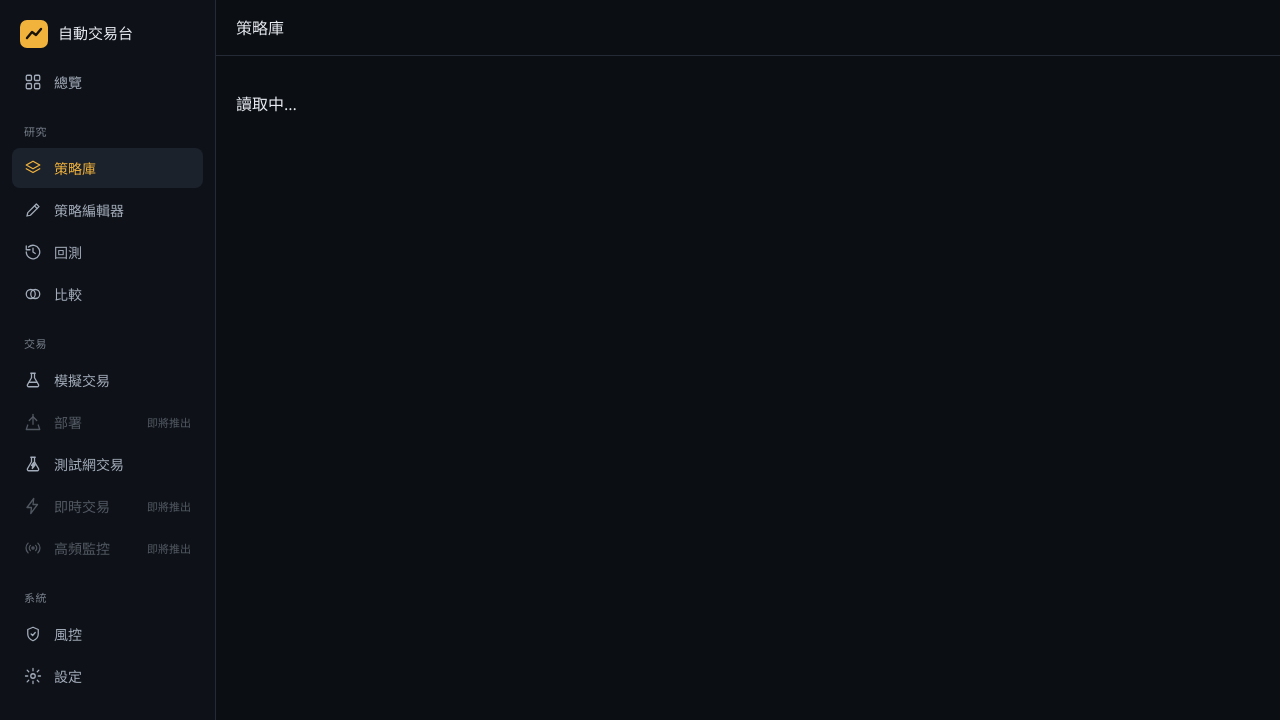
Test: App › 點擊「比較」「模擬交易」與「設定」都能各自顯示對應內容
Click the button "比較" at (108, 294), box [12,274,203,314]
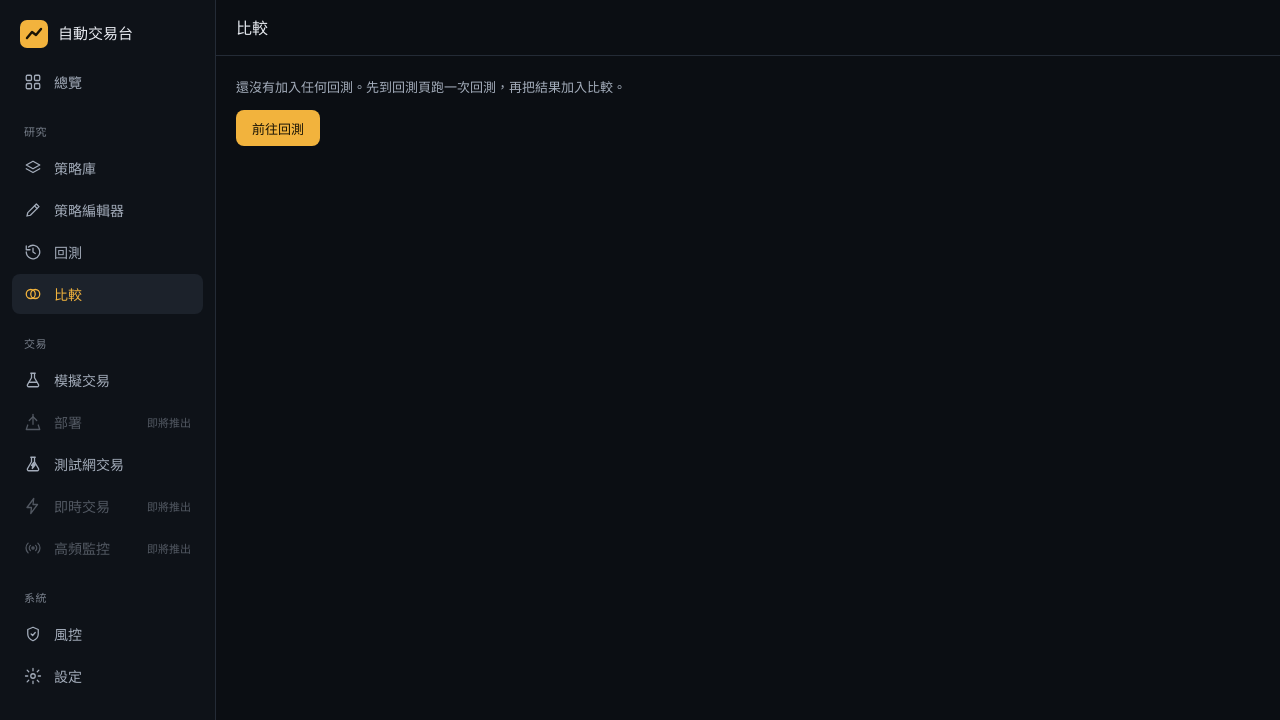
Expected: the heading "比較" is shown, [236,16,268,40]
Click the button "模擬交易" at (108, 380), box [12,360,203,400]
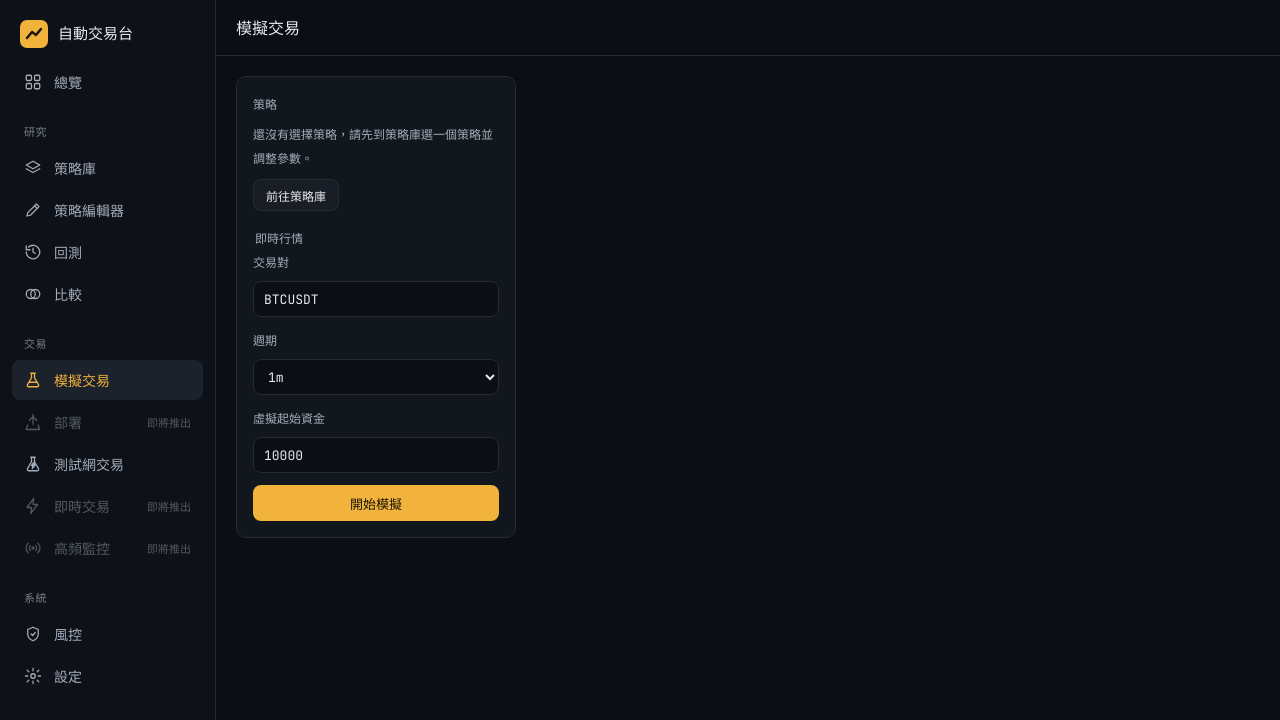
Expected: the heading "模擬交易" is shown, [236,16,300,40]
Click the button "設定" at (108, 676), box [12,656,203,696]
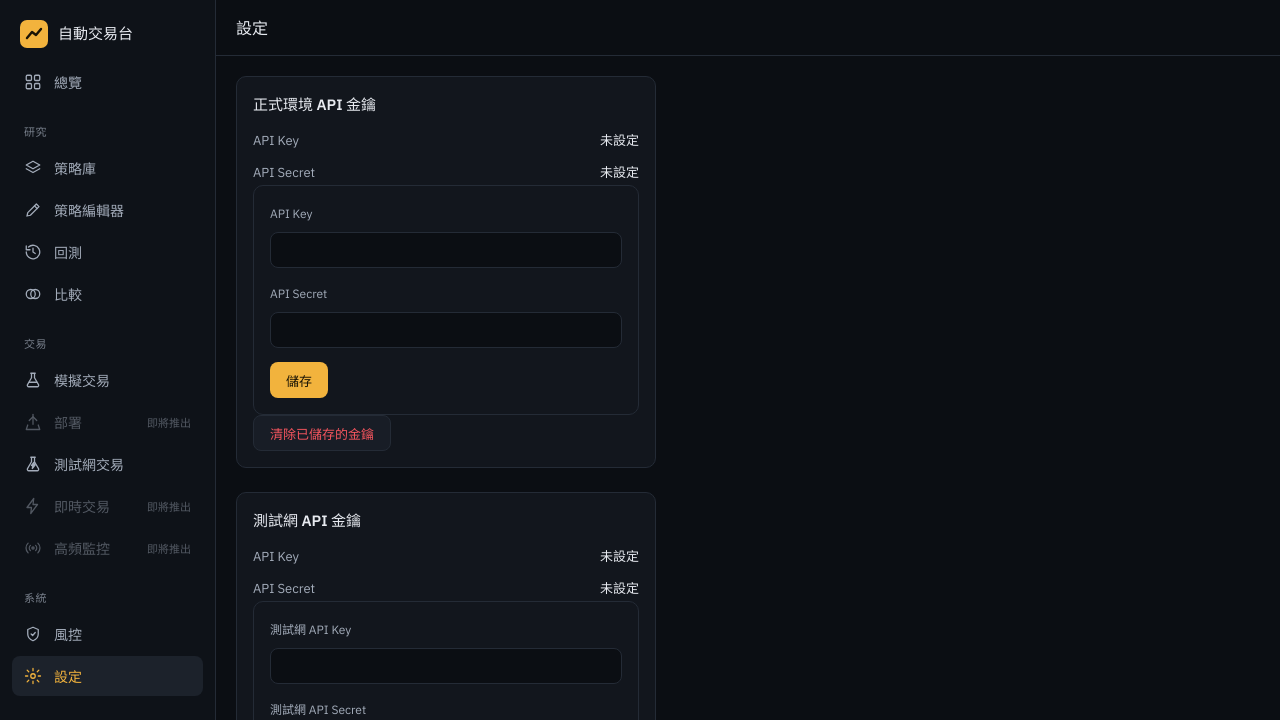
Expected: the heading "設定" is shown, [236,16,268,40]
Expected: the heading "正式環境 API 金鑰" is shown, [253,95,376,114]
